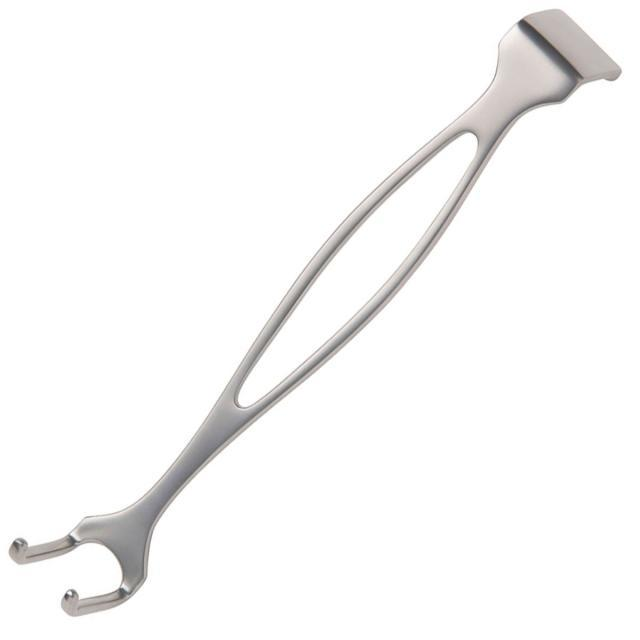Czerny Retractor: (5, 6, 624, 620)
